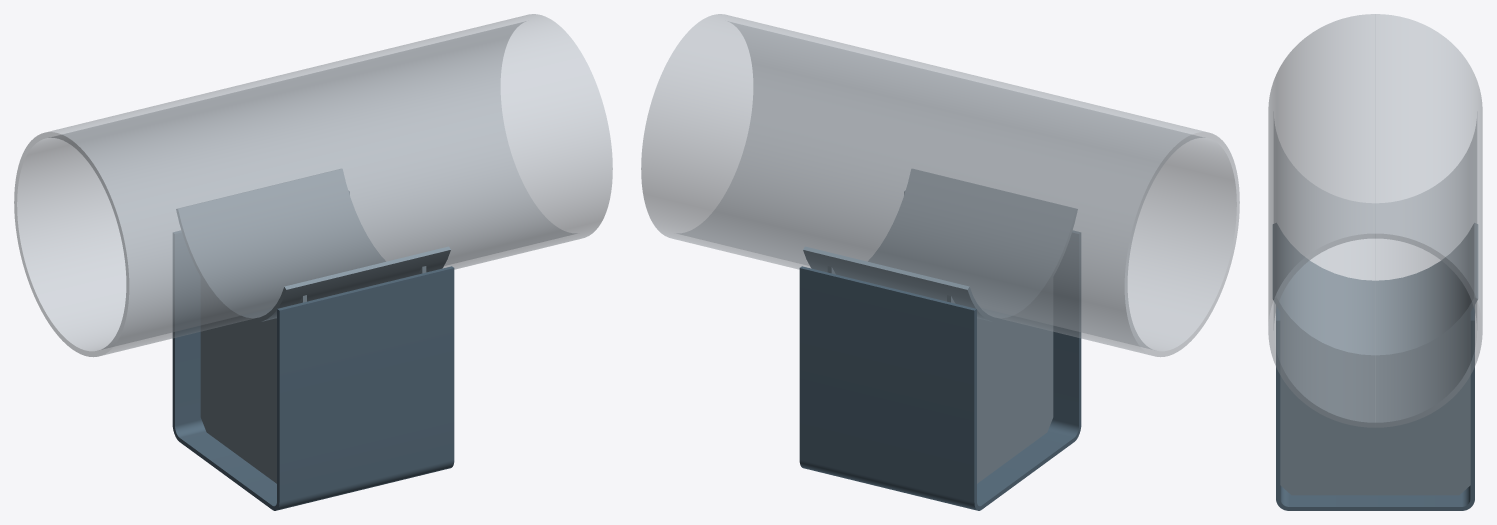
The model's file is TS-624.000-001-opora-dn194-H150-L170.glb.
The picture shows the model from 3 angles, left to right: view 1: azimuth 30°, elevation 25°; view 2: azimuth 150°, elevation 25°; view 3: azimuth 270°, elevation 25°; orthographic projection. The views are drawn at different scales.
Visible parts, largest first — view 1: truba, skoba, podushka_0, rebro3_0; view 2: truba, skoba, podushka_0, rebro3_0; view 3: truba, rebro3_1, podushka_0, skoba.
Part boxes in pixels (x1,y1,x2,y2): truba: (14, 14, 612, 356); skoba: (172, 191, 454, 510); podushka_0: (176, 169, 450, 322); rebro3_0: (200, 279, 306, 483); truba: (641, 14, 1239, 356); skoba: (799, 191, 1081, 510); podushka_0: (803, 169, 1077, 322); rebro3_0: (947, 279, 1053, 483); truba: (1268, 14, 1482, 427); rebro3_1: (1280, 312, 1470, 495); podushka_0: (1272, 223, 1478, 359); skoba: (1276, 306, 1474, 510).
Bounding box in the file's own units: 470 × 347 × 194.
